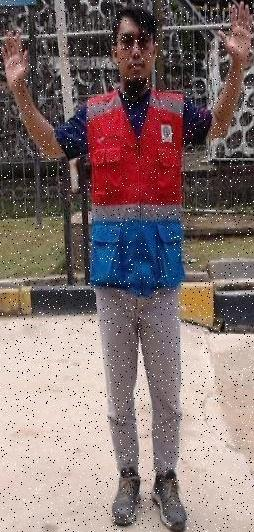boots: (151, 470, 187, 532), (112, 468, 141, 526)
vest: (52, 84, 193, 290)
